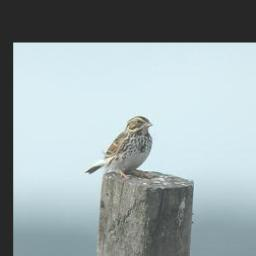Sparrow: (84, 115, 155, 180)
